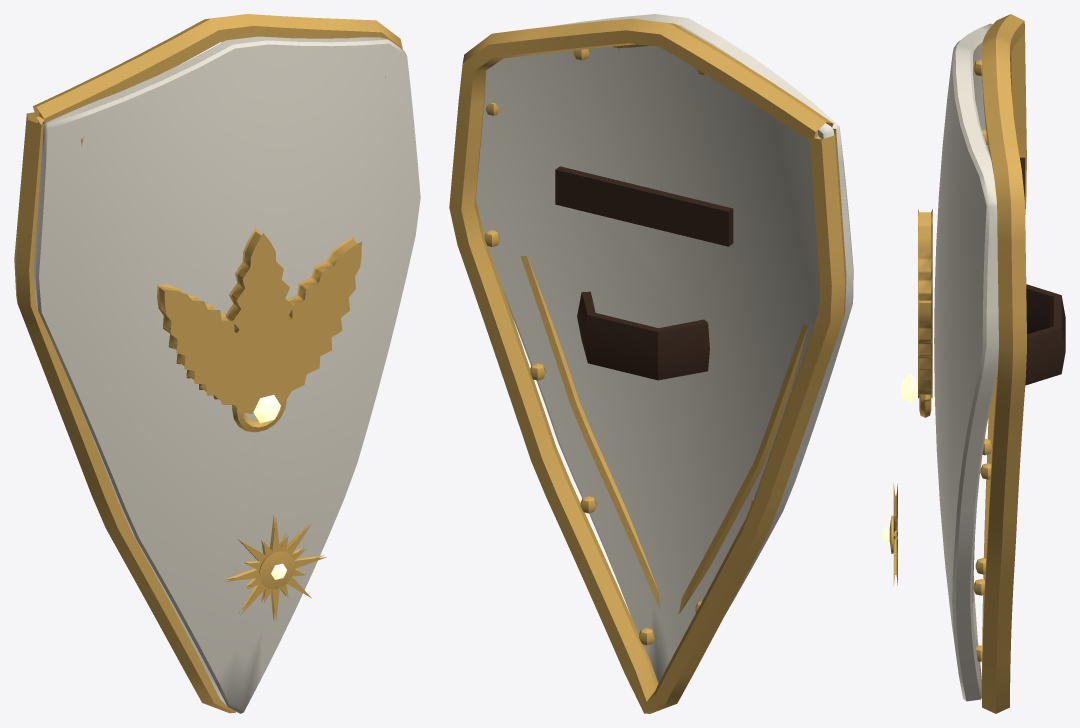
Rendered from asc_dawnward_templar_shield.glb.
3 views of the same model, side by side, from view 1: azimuth 30°, elevation 25°; view 2: azimuth 150°, elevation 25°; view 3: azimuth 270°, elevation 25° (orthographic). The views are drawn at different scales.
Parts seen in each view (by area): view 1: asc_dawnward_templar_shield; view 2: asc_dawnward_templar_shield; view 3: asc_dawnward_templar_shield.
Boxes of the visible parts, x1,y1,x2,y2 form: asc_dawnward_templar_shield: (14, 14, 420, 713); asc_dawnward_templar_shield: (449, 14, 853, 713); asc_dawnward_templar_shield: (882, 14, 1065, 713).
Bounding box in the file's own units: 0.5917 × 0.997 × 0.2491.
